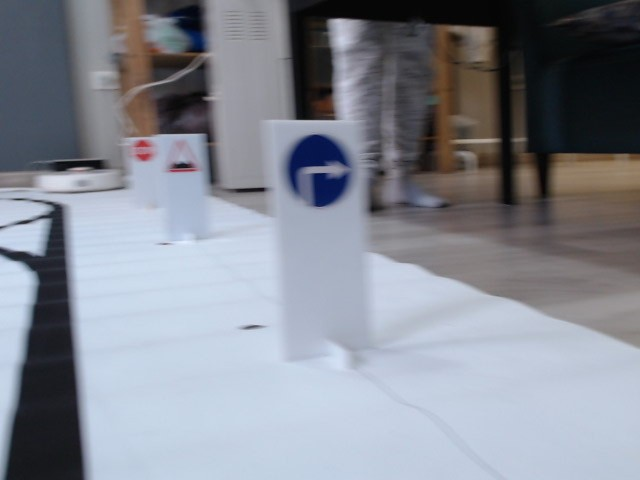Nerov: (166, 140, 204, 177)
Right: (288, 130, 351, 213)
